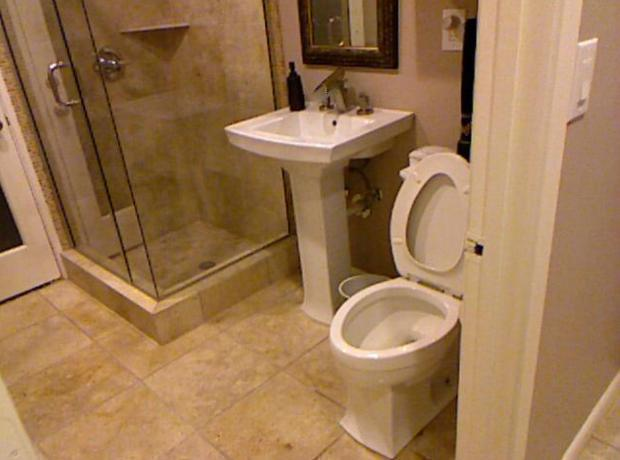Bote de Basura: (338, 269, 395, 336)
Ducha: (0, 2, 305, 348)
Lavamanos: (225, 73, 410, 331)
Sanitario: (330, 153, 504, 449)
